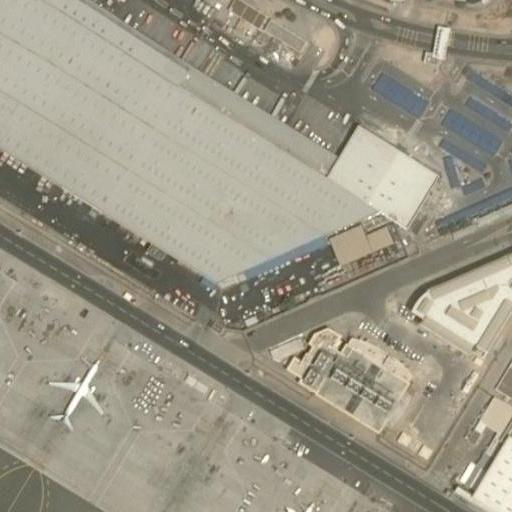Aircraft: (47, 357, 113, 421), (258, 492, 314, 512)
